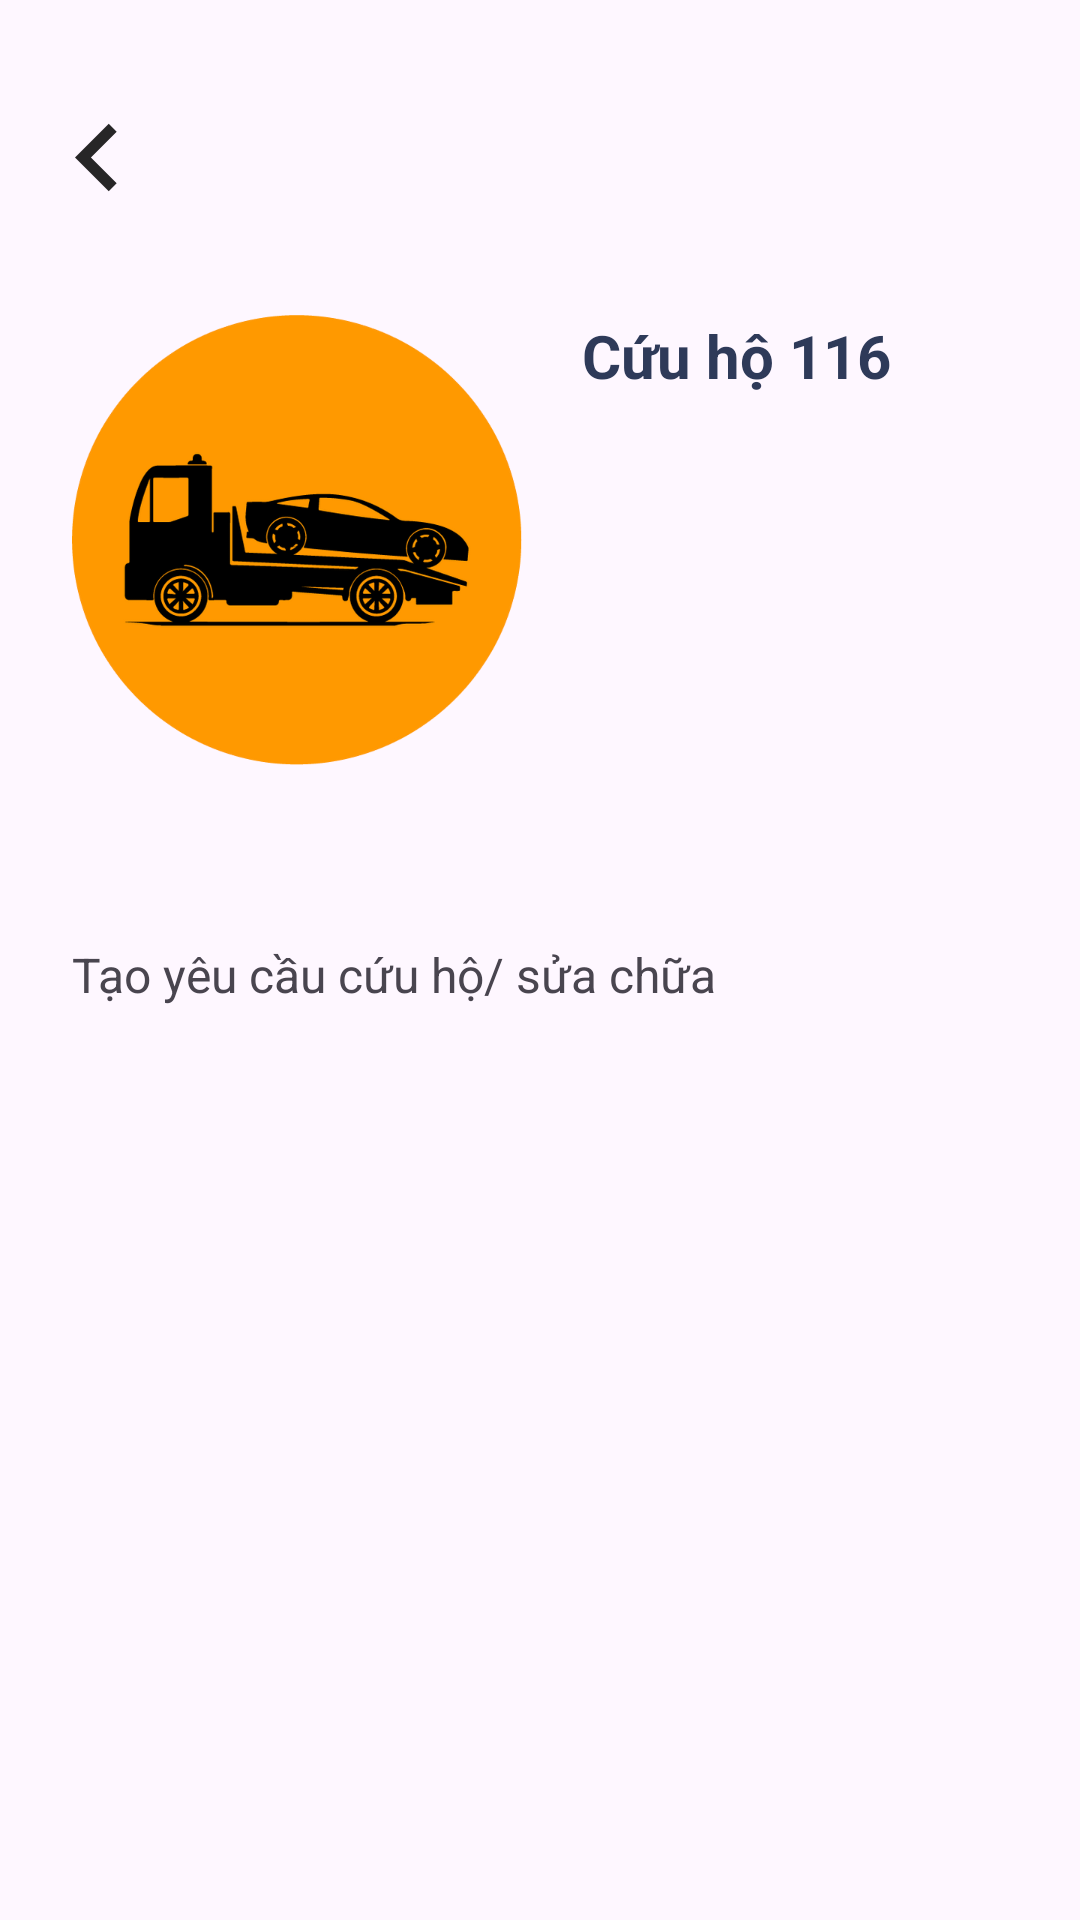

Named icons in this screenshot (1080px×1920px) and their centers, [x,y]:
goback: [96,157]
